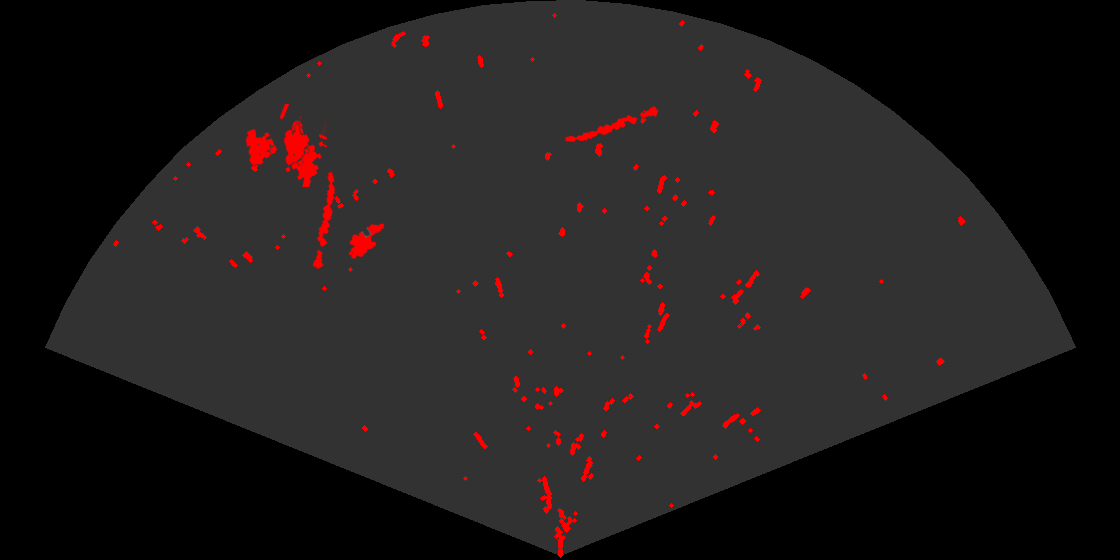AUV: (347, 222, 386, 260)
cage: (244, 104, 327, 174)
chain: (563, 105, 660, 144), (311, 170, 337, 271)
frogman: (290, 120, 323, 187)
